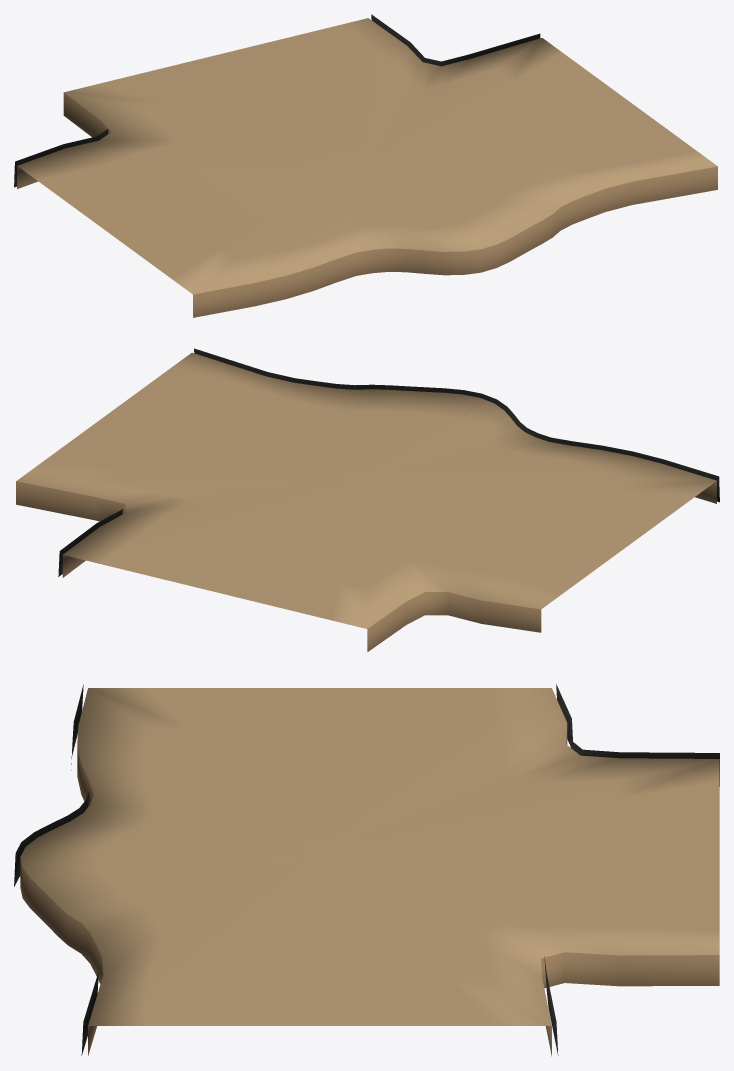
The model's file is td_pathtile3.fbx.
3 views of the same model, one above another, from view 1: azimuth 30°, elevation 25°; view 2: azimuth 150°, elevation 25°; view 3: azimuth 270°, elevation 25° (orthographic). The views are drawn at different scales.
Visible parts, largest first — view 1: Path_T; view 2: Path_T; view 3: Path_T.
Boxes of the visible parts, <box> form: Path_T: <box>14,14,717,317</box>; Path_T: <box>16,348,719,651</box>; Path_T: <box>14,684,719,1056</box>.
Size of the model in its own units: 200 by 11.7 by 177.
